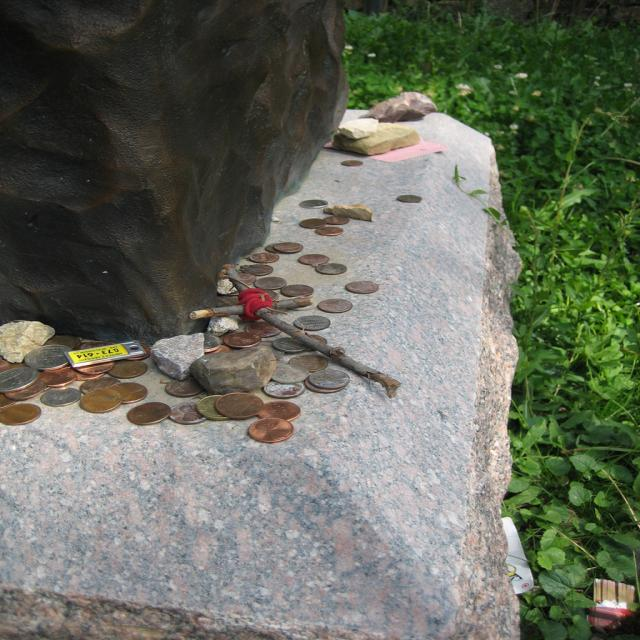Coin: (23, 343, 73, 374), (214, 391, 267, 420), (124, 400, 171, 427), (78, 387, 124, 413), (0, 364, 38, 395), (247, 417, 294, 442), (0, 400, 41, 427), (255, 400, 302, 423), (195, 394, 232, 422), (283, 353, 330, 373), (308, 368, 352, 389), (258, 378, 306, 397), (167, 402, 210, 423), (112, 341, 157, 361), (112, 382, 149, 405), (35, 369, 79, 388), (163, 377, 203, 396), (42, 386, 78, 406), (270, 362, 306, 382), (252, 336, 284, 358), (247, 317, 282, 337), (220, 332, 261, 349), (112, 359, 148, 378), (274, 334, 306, 355), (78, 379, 117, 396), (294, 313, 330, 331), (41, 334, 83, 349), (277, 281, 313, 298), (0, 356, 28, 377), (9, 382, 41, 400), (319, 298, 352, 314), (313, 261, 348, 276), (343, 279, 378, 294), (73, 362, 116, 374), (305, 333, 329, 354), (255, 276, 288, 290), (247, 249, 279, 263), (298, 252, 332, 265), (314, 224, 345, 238), (238, 265, 273, 276), (201, 333, 220, 353), (75, 369, 104, 382), (270, 241, 301, 253), (299, 197, 330, 209), (232, 271, 255, 286), (305, 383, 345, 391), (297, 216, 324, 227), (323, 214, 348, 225), (203, 344, 232, 353), (0, 394, 17, 409), (398, 193, 425, 202), (262, 243, 284, 253), (87, 339, 107, 348), (226, 289, 244, 298), (341, 159, 363, 166)
